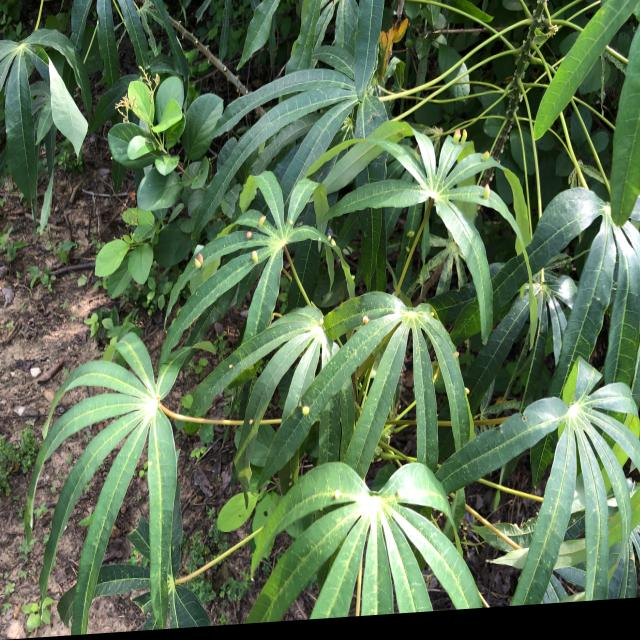Maleza: (102, 78, 213, 229), (88, 185, 168, 315)
Mosca: (255, 206, 272, 235), (451, 119, 468, 147), (477, 145, 496, 170), (479, 180, 495, 207), (301, 394, 317, 421), (329, 485, 349, 505), (189, 251, 206, 274), (399, 239, 416, 260), (401, 222, 420, 240), (241, 225, 262, 239), (245, 248, 263, 263), (224, 356, 240, 372), (449, 344, 463, 362), (324, 233, 340, 248), (357, 309, 370, 327), (244, 414, 258, 429)
